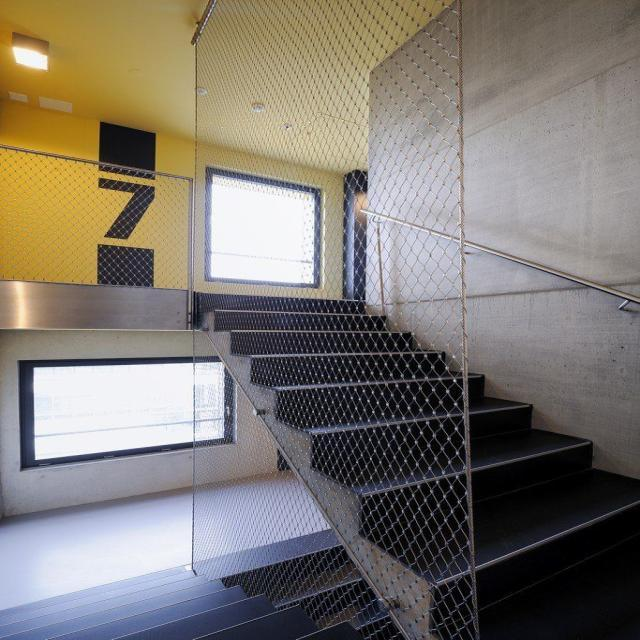stairs: (191, 290, 638, 639)
